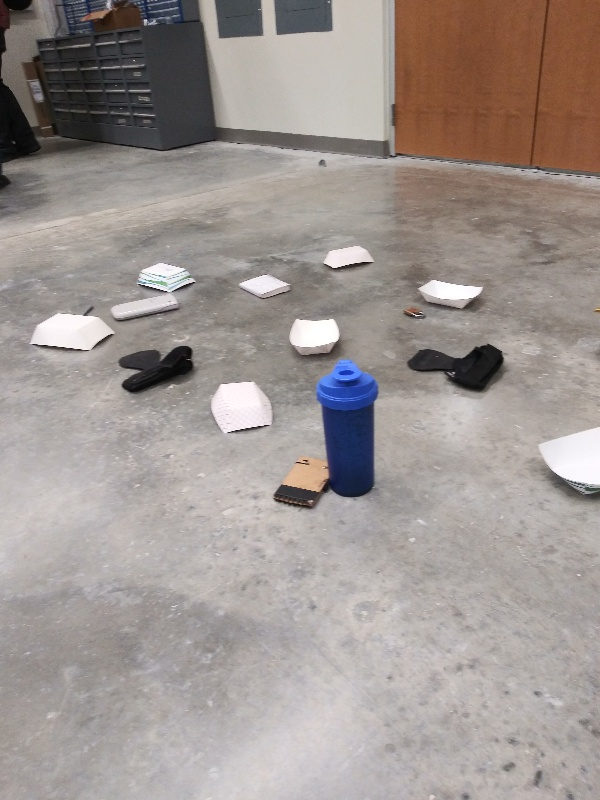plate: (526, 418, 600, 501), (25, 309, 121, 356), (205, 377, 278, 438), (414, 276, 486, 315), (284, 314, 346, 357), (131, 260, 199, 293), (317, 244, 378, 273)
